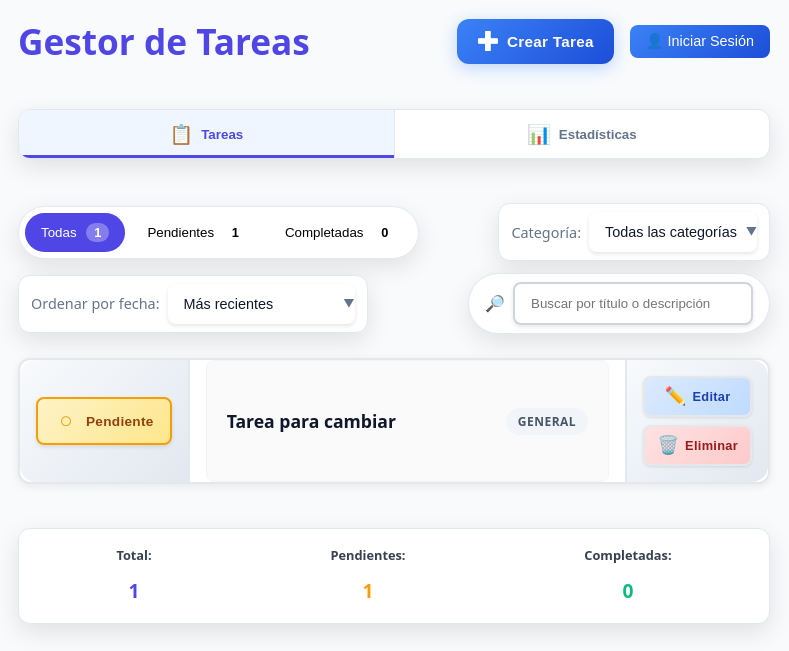
Test: Gestor de Tareas - App Principal › 3. Marcar Tarea como Completada/Pendiente › debe cambiar el estado de una tarea al hacer clic en el botón de estado
Hacer clic en el botón de estado
Step 1. Click the text "Pendiente" → (120, 421), box [86,414,154,429]
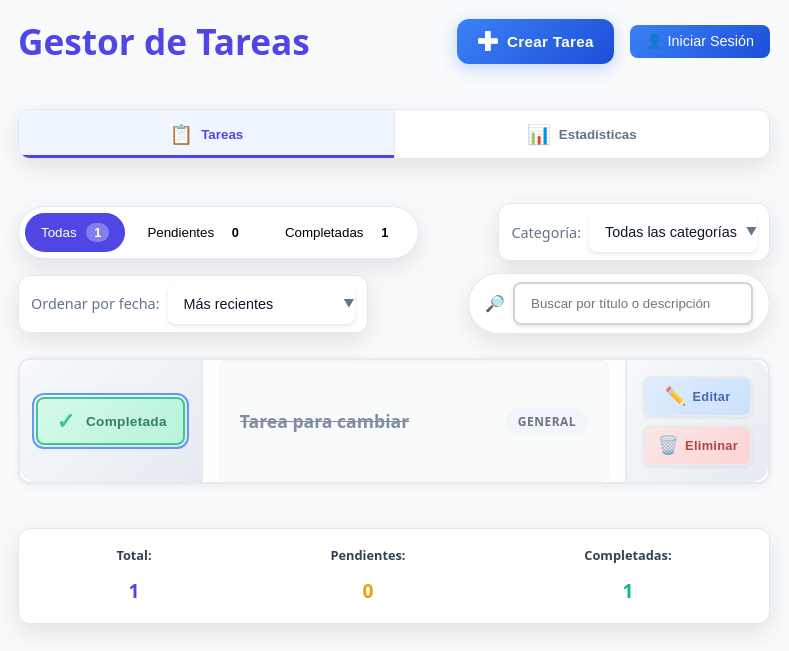
Now the text "Completada" is shown, box [86,414,167,429]
